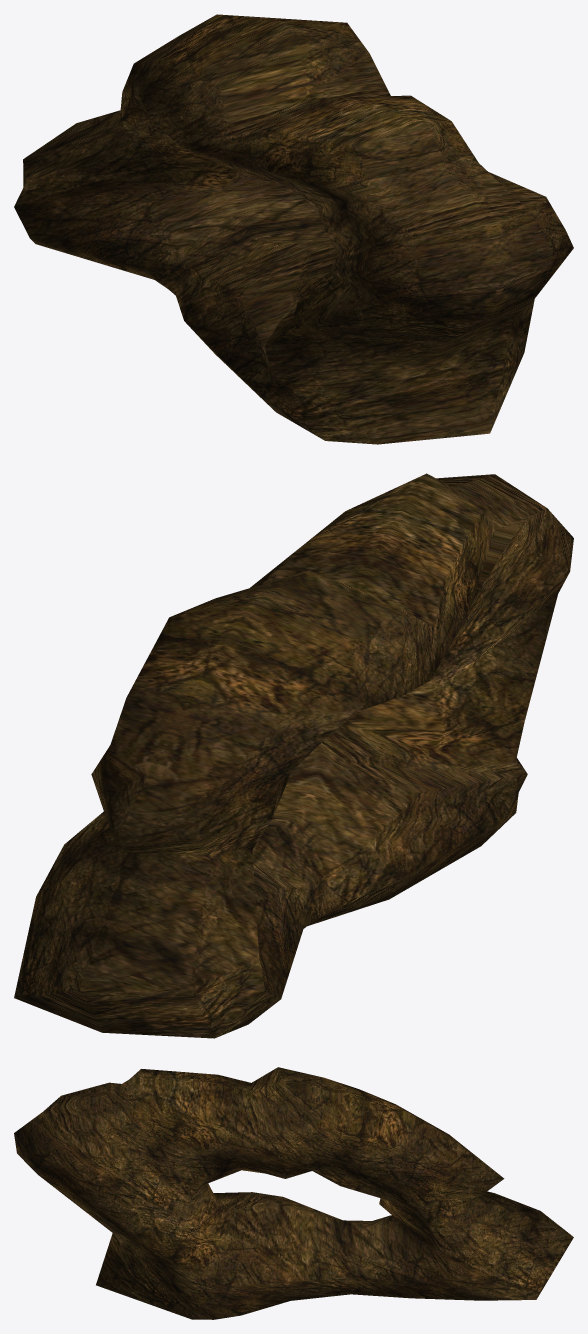
File: hr_rock9.glb
3 renders of one model, top to bottom at view 1: azimuth 30°, elevation 25°; view 2: azimuth 150°, elevation 25°; view 3: azimuth 270°, elevation 25°, orthographic. The views are drawn at different scales.
Visible parts, largest first — view 1: hr_rock9-col; view 2: hr_rock9-col; view 3: hr_rock9-col.
Boxes of the visible parts, x1,y1,x2,y2 form: hr_rock9-col: (14,14,573,444); hr_rock9-col: (14,473,573,1038); hr_rock9-col: (14,1067,573,1319).
Size of the model in its own units: 1.62 by 1.58 by 4.13.
1 material, 1 textured.
